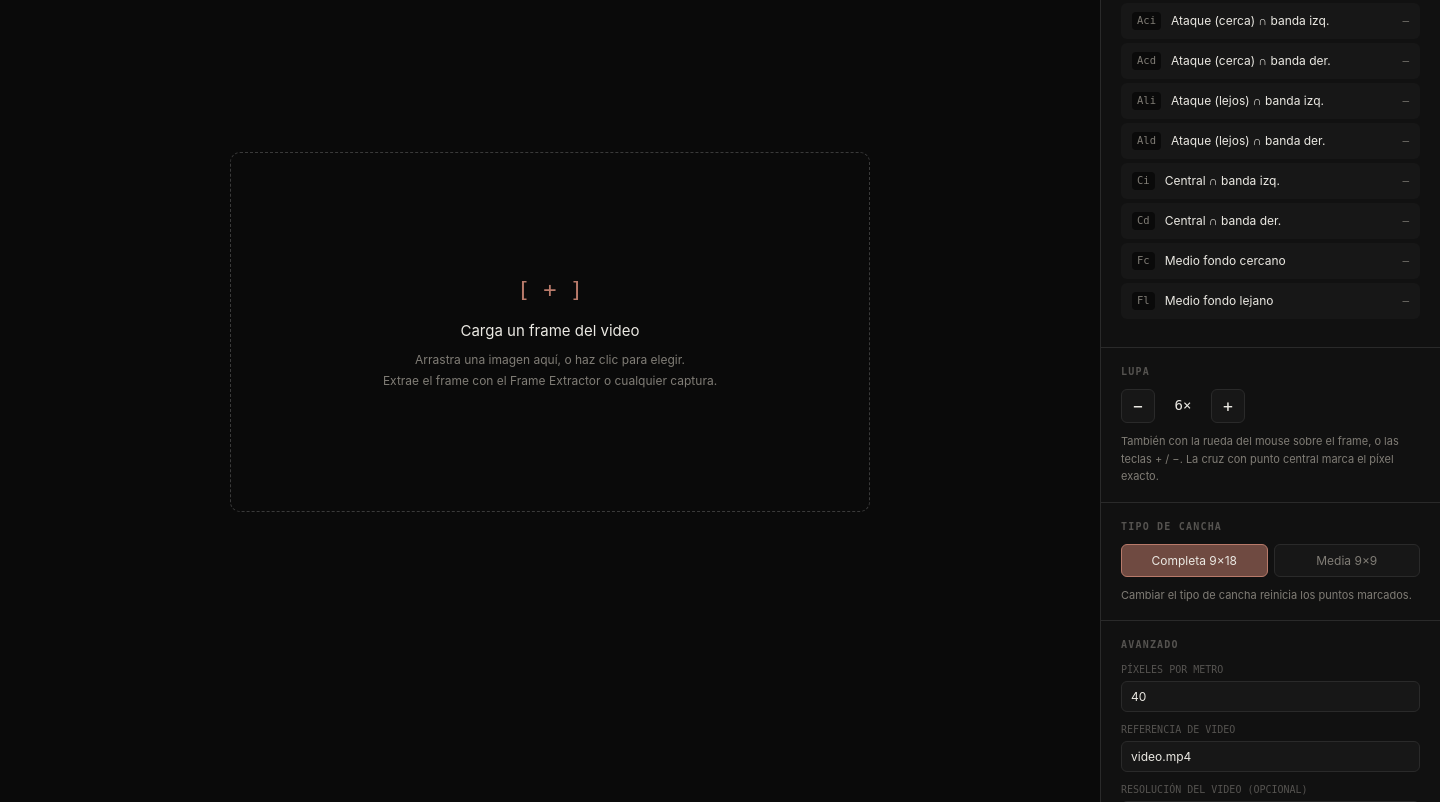
Test: Calibrator — zoom de la lupa › los botones +/− ajustan el zoom mostrado en la sección Lupa
(page scrolled)
Expected: the text "6×" is shown, x1=1175 y1=397 x2=1192 y2=413
Click the button named "Acercar lupa" at (1228, 406), box x1=1211 y1=389 x2=1245 y2=423
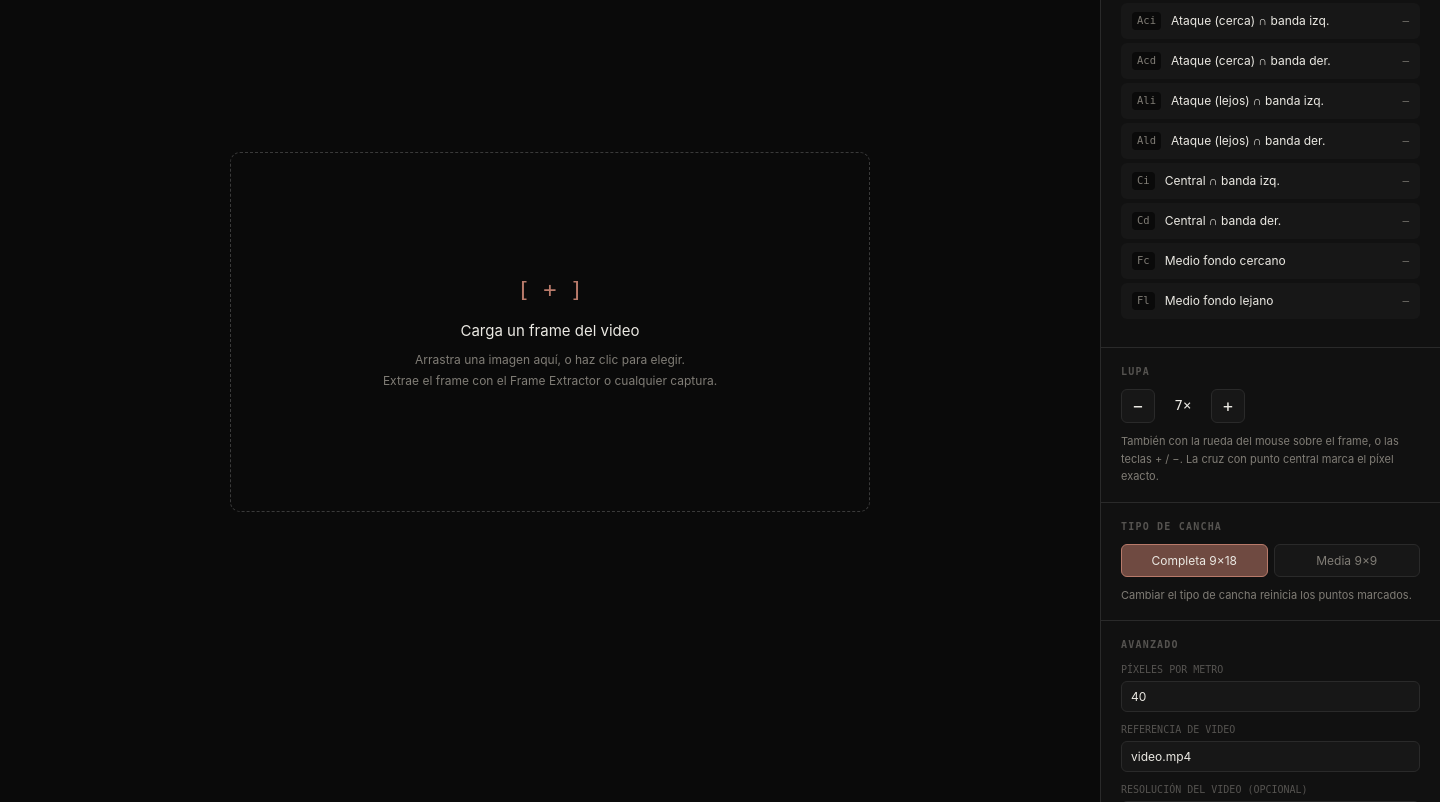
Result: the text "7×" is shown at x1=1175 y1=397 x2=1192 y2=413
Click the button named "Alejar lupa" at (1138, 406), box x1=1121 y1=389 x2=1155 y2=423
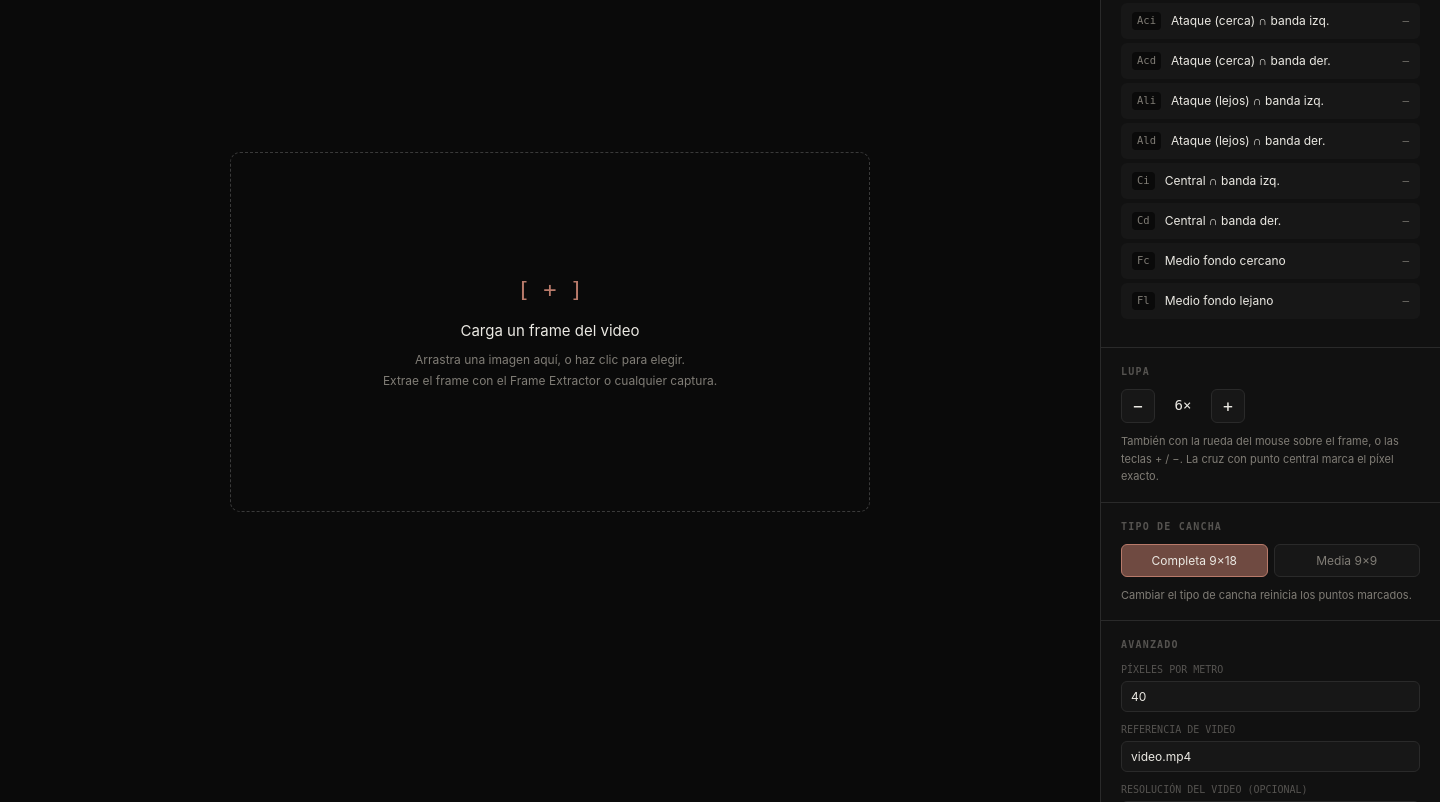
Click the button named "Alejar lupa" at (1138, 406), box x1=1121 y1=389 x2=1155 y2=423
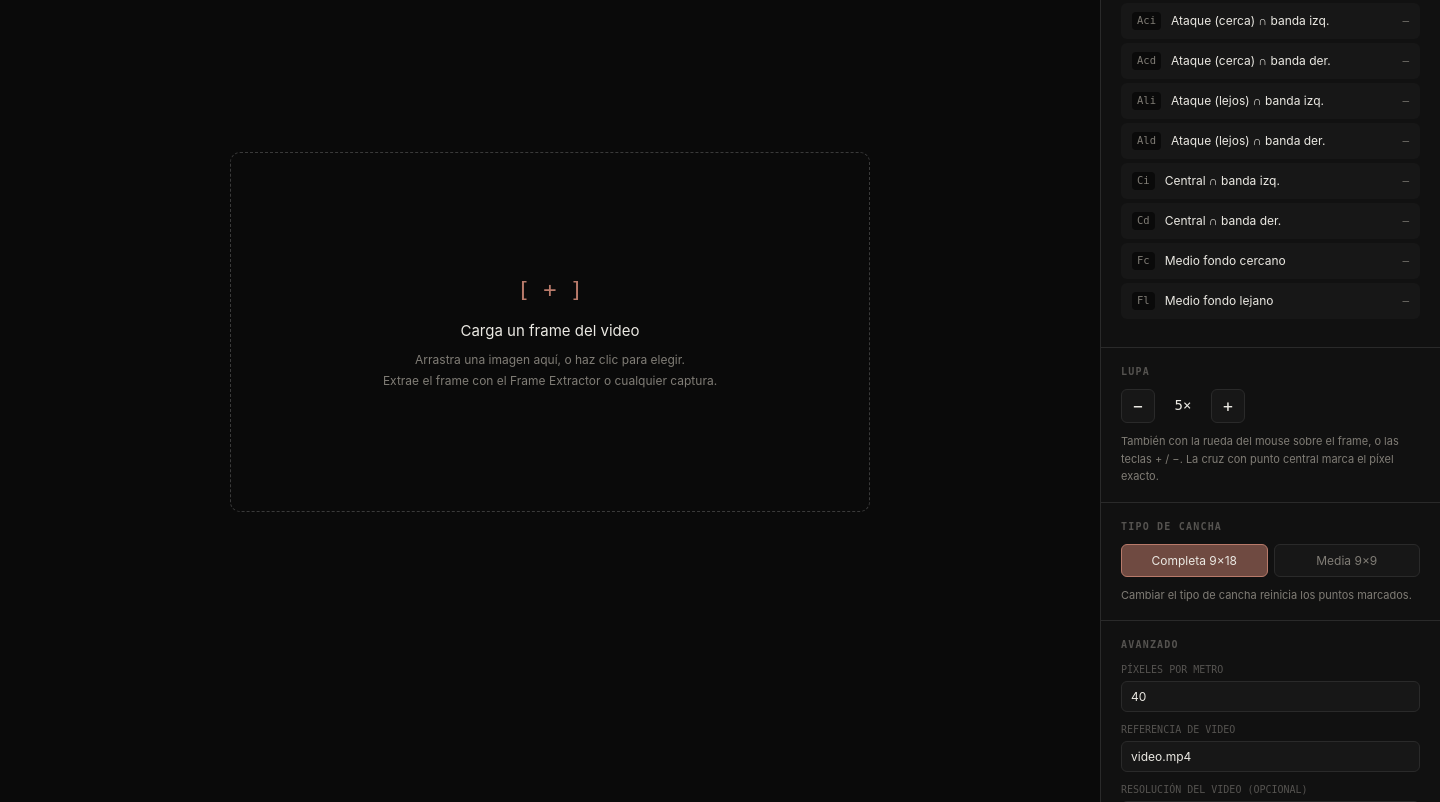
Result: the text "5×" is shown at x1=1175 y1=397 x2=1192 y2=413
